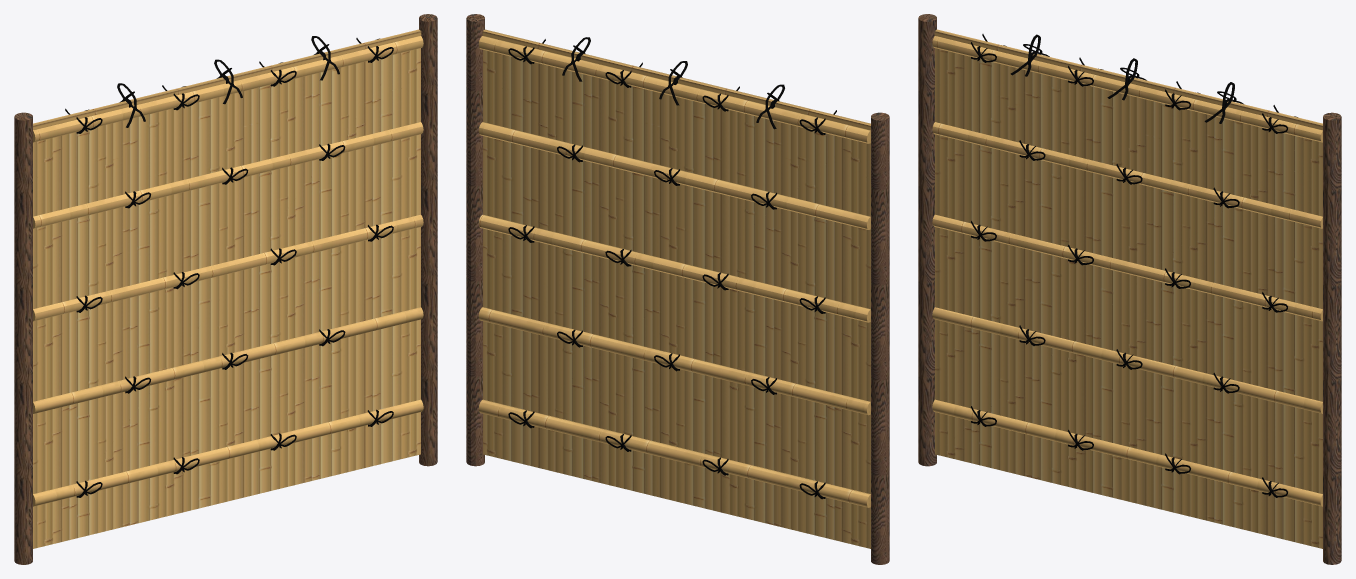
File: e-banboo-kodawari-kenninji_h2000_om-sarasitake.fbx
3 views of the same model, side by side, from view 1: azimuth 30°, elevation 25°; view 2: azimuth 150°, elevation 25°; view 3: azimuth 330°, elevation 25° (orthographic).
Parts seen in each view (by area): view 1: e-banboo-kodawari-kenninji_h2000_om-sarasitake; view 2: e-banboo-kodawari-kenninji_h2000_om-sarasitake; view 3: e-banboo-kodawari-kenninji_h2000_om-sarasitake.
Boxes of the visible parts, x1=… form: e-banboo-kodawari-kenninji_h2000_om-sarasitake: x1=14, y1=14, x2=437, y2=564; e-banboo-kodawari-kenninji_h2000_om-sarasitake: x1=466, y1=14, x2=889, y2=564; e-banboo-kodawari-kenninji_h2000_om-sarasitake: x1=918, y1=14, x2=1341, y2=564.
Bounding box in the file's own units: 208 × 211 × 21.44.
4 materials, 4 textured.
